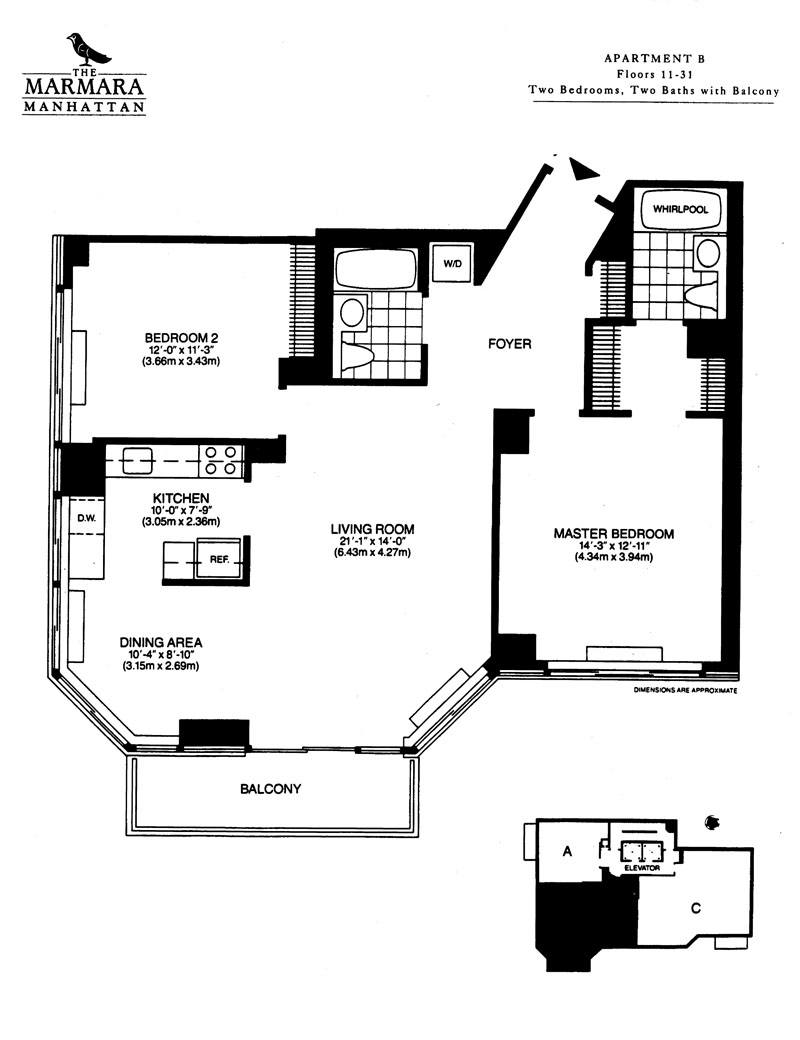wall: (717, 417, 745, 673), (63, 231, 320, 247), (726, 182, 749, 319), (83, 433, 293, 447), (172, 712, 261, 744), (480, 628, 545, 669), (490, 408, 501, 633), (683, 320, 744, 357), (58, 447, 106, 493), (320, 227, 426, 246), (726, 320, 747, 411), (577, 317, 591, 419), (415, 228, 433, 301), (679, 409, 752, 423), (434, 227, 509, 239), (579, 314, 637, 325), (571, 411, 639, 420)
